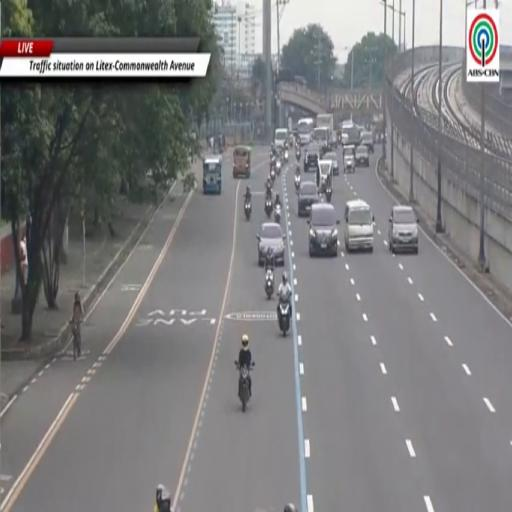bus: (298, 118, 314, 146)
car: (308, 203, 339, 257), (345, 200, 374, 252), (388, 205, 418, 253), (257, 222, 285, 266), (298, 182, 319, 217), (324, 152, 339, 174), (355, 145, 369, 168), (304, 152, 320, 172), (343, 146, 355, 172), (360, 132, 374, 153)
jeepney: (203, 155, 222, 195), (233, 146, 251, 178), (319, 160, 332, 193)
motorcycle: (235, 361, 254, 411), (279, 301, 290, 335), (265, 269, 273, 299), (265, 199, 273, 218), (274, 204, 281, 223), (325, 184, 332, 202), (245, 201, 251, 220), (294, 175, 300, 193), (276, 160, 281, 175), (270, 169, 275, 183), (284, 151, 288, 163), (296, 151, 300, 162)
truck: (316, 115, 336, 147), (342, 124, 359, 146)
